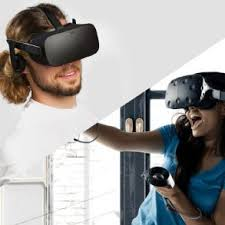oculus: (27, 23, 105, 68), (165, 73, 222, 111)
